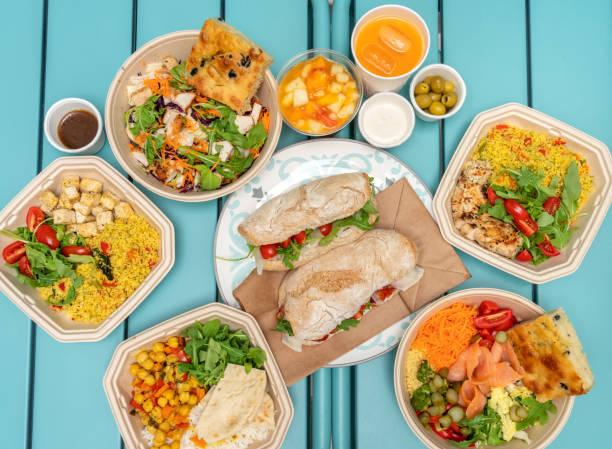Braised Crucian Carp: (214, 138, 435, 363), (1, 154, 176, 339), (431, 103, 609, 284), (103, 29, 277, 204), (393, 290, 574, 448), (105, 301, 295, 447)
